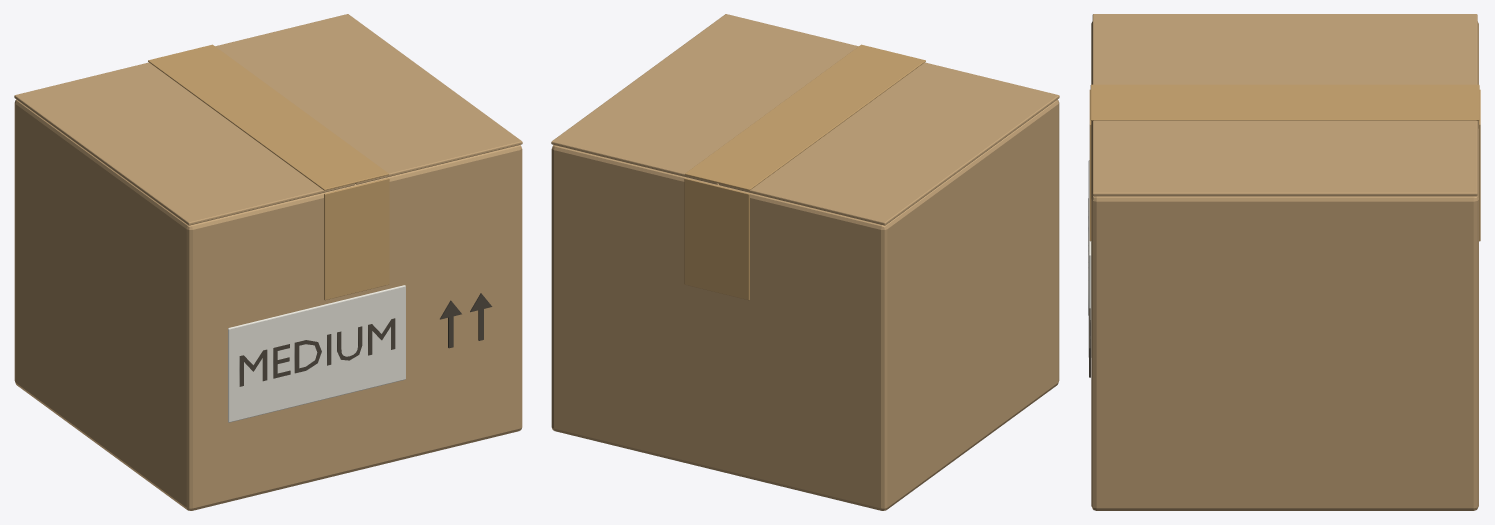
The model's file is box_medium.glb.
3 renders of one model, left to right at view 1: azimuth 30°, elevation 25°; view 2: azimuth 150°, elevation 25°; view 3: azimuth 270°, elevation 25°, orthographic. The views are drawn at different scales.
Visible parts, largest first — view 1: Medium carton closed carton, Medium carton top flap, Medium carton top flap.001, Medium carton shipping label, Medium carton top tape, Medium carton tape down side, Medium carton size marking; view 2: Medium carton closed carton, Medium carton top flap, Medium carton top flap.001, Medium carton top tape, Medium carton tape down side.001; view 3: Medium carton closed carton, Medium carton top flap.001, Medium carton top flap, Medium carton top tape, Medium carton shipping label.
Boxes of the visible parts, x1,y1,x2,y2 form: Medium carton closed carton: [14, 99, 522, 510]; Medium carton top flap: [14, 62, 354, 225]; Medium carton top flap.001: [215, 14, 522, 184]; Medium carton shipping label: [228, 285, 405, 422]; Medium carton top tape: [148, 44, 388, 190]; Medium carton tape down side: [324, 178, 389, 300]; Medium carton size marking: [239, 318, 395, 386]; Medium carton closed carton: [551, 99, 1059, 510]; Medium carton top flap: [719, 62, 1059, 225]; Medium carton top flap.001: [551, 14, 858, 184]; Medium carton top tape: [685, 44, 925, 190]; Medium carton tape down side.001: [684, 178, 749, 300]; Medium carton closed carton: [1091, 21, 1478, 510]; Medium carton top flap.001: [1092, 120, 1477, 196]; Medium carton top flap: [1092, 14, 1477, 84]; Medium carton top tape: [1090, 84, 1479, 120]; Medium carton shipping label: [1088, 160, 1091, 357].
Bounding box in the file's own units: 0.33 × 0.2742 × 0.3039.
